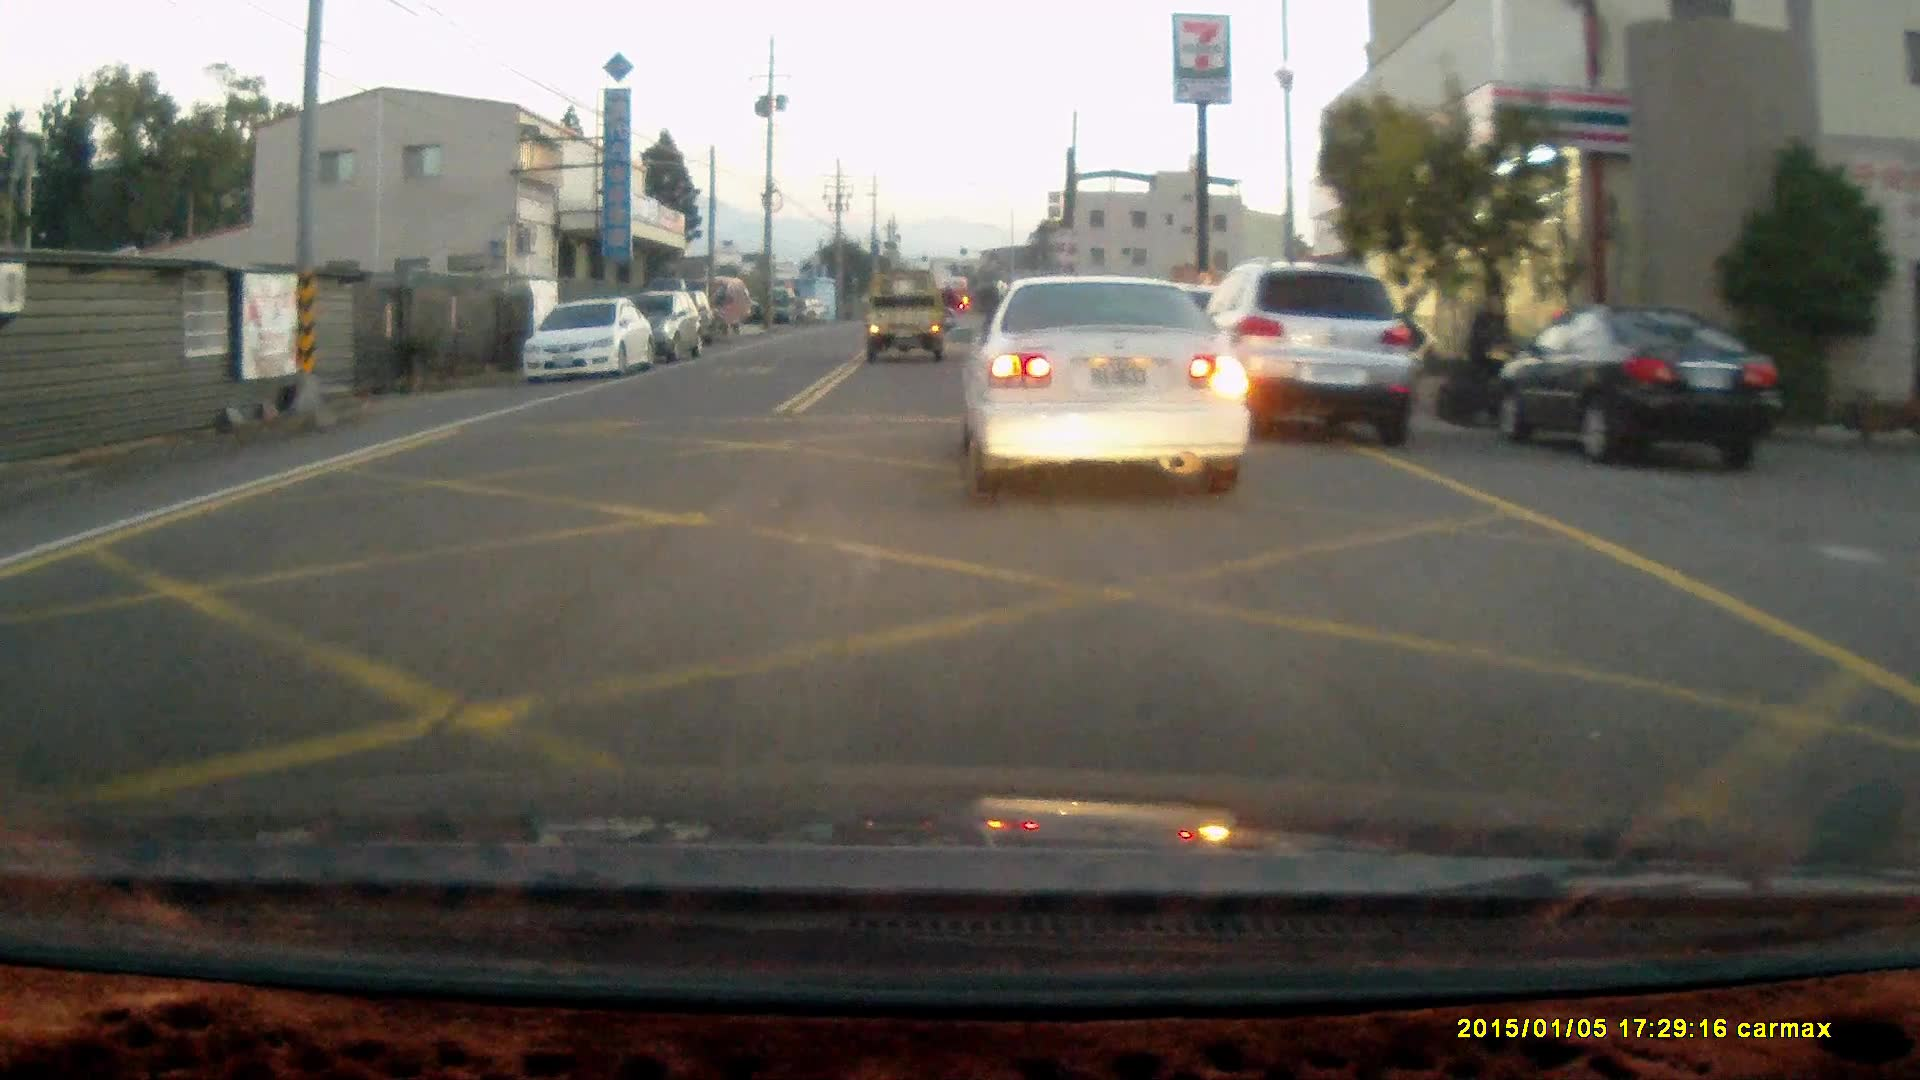rider: (1441, 296, 1539, 428), (936, 281, 962, 332)
vehicle: (961, 275, 1255, 489), (1495, 295, 1787, 466), (1199, 263, 1427, 452), (516, 294, 658, 384), (861, 270, 948, 361), (627, 295, 707, 363)
